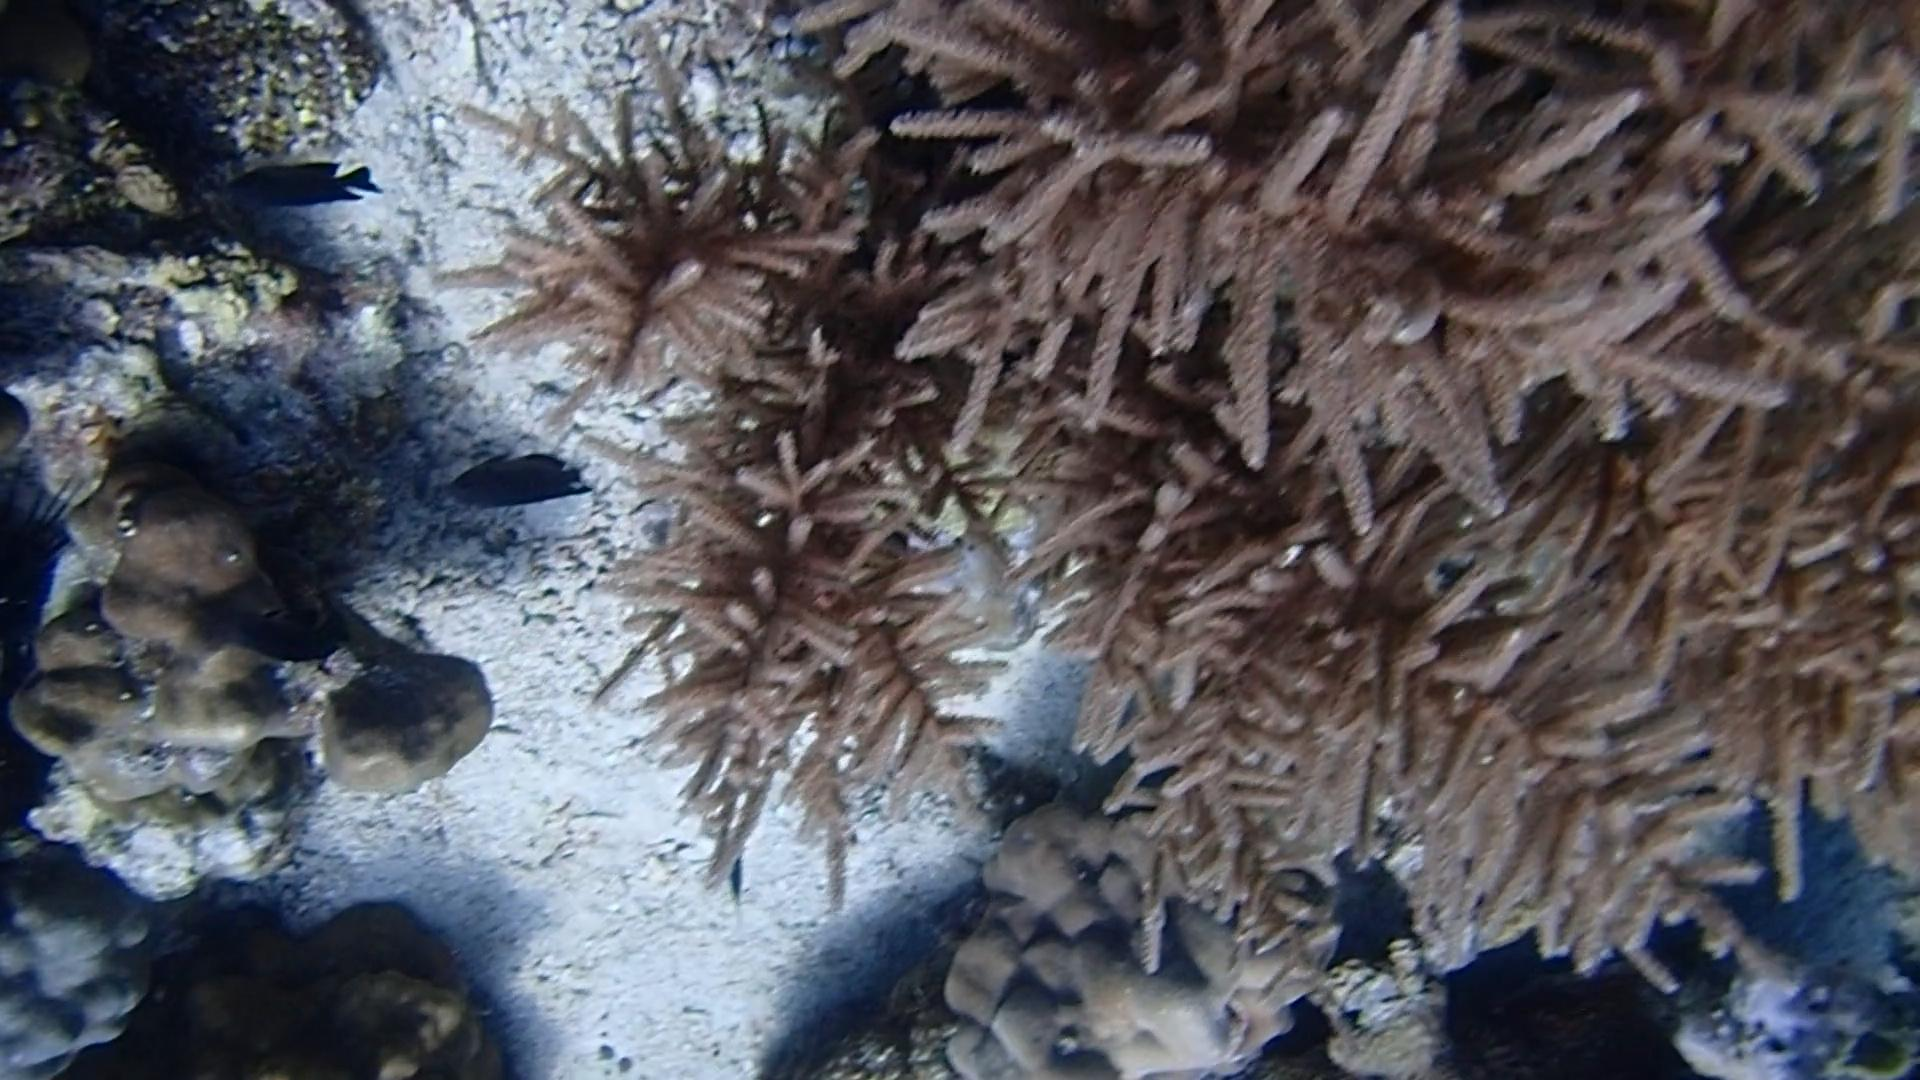Dark Fish: (216, 157, 393, 218), (446, 451, 604, 516), (222, 600, 357, 671)
Yellow Tail: (705, 843, 761, 934)
